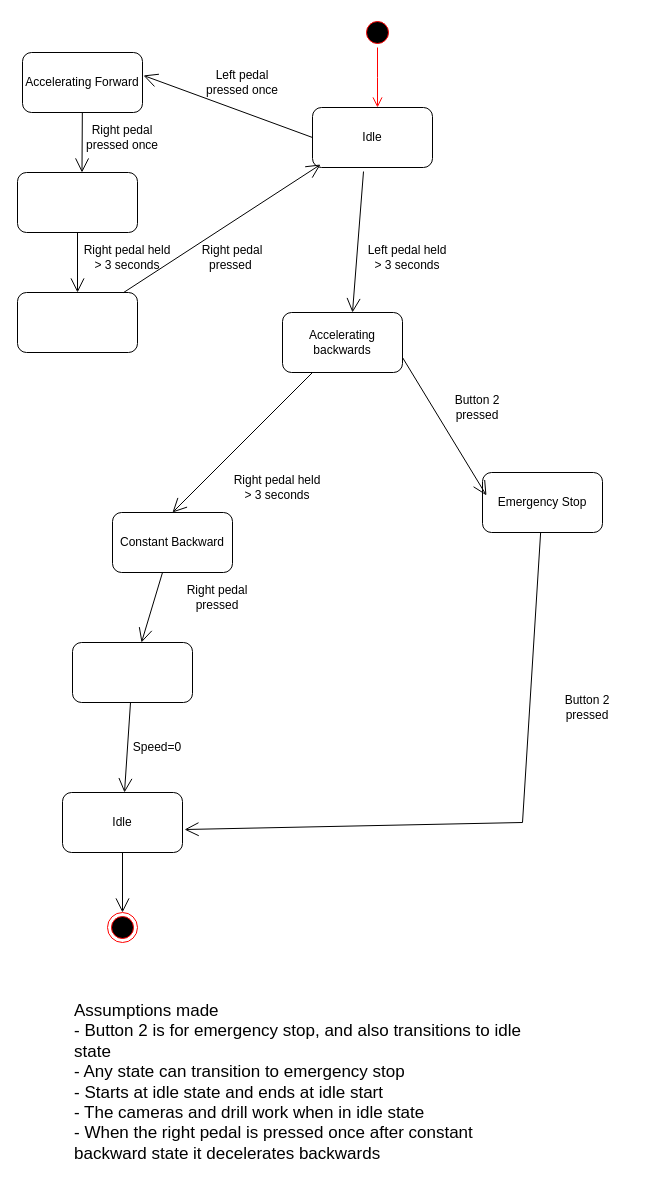
Image size: 650x1200. Some labels were removed from this diagram. Each missing label, with the centre of its shape:
Constant Forward: pixel 77 322
Deaccelarating Backward: pixel 132 672
Deaccelerating Forward: pixel 77 202
